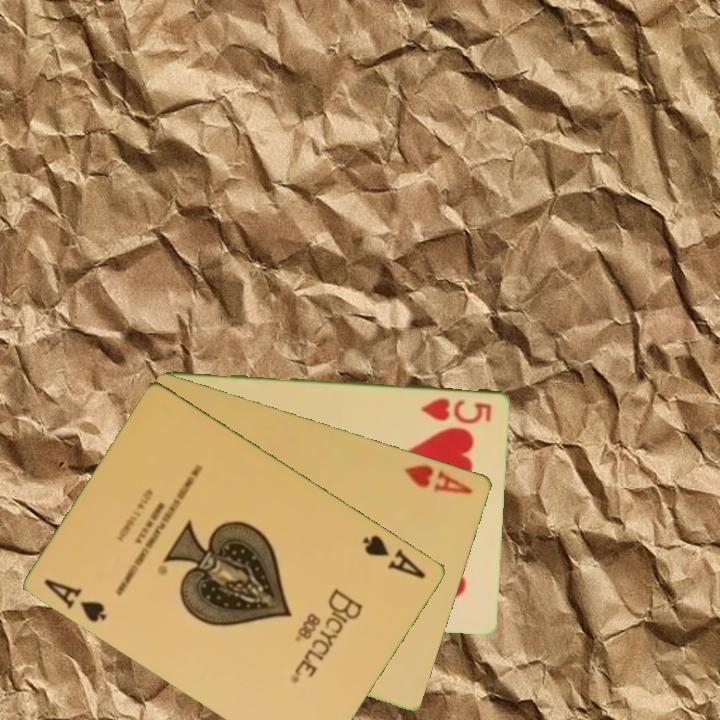5h: (417, 393, 495, 425)
Ah: (402, 461, 476, 497)
As: (360, 531, 430, 582), (41, 575, 111, 625)
